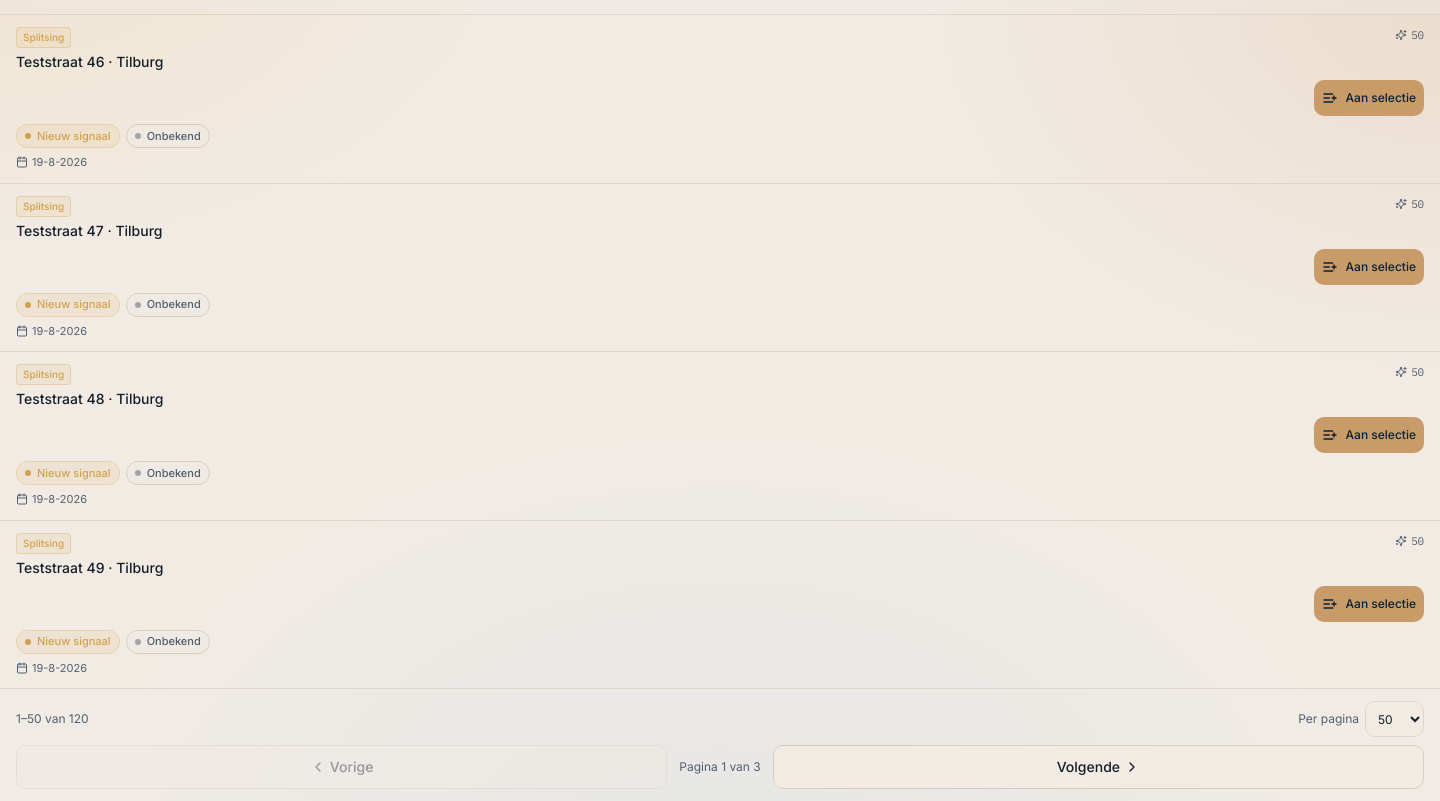
it: SignalenTable — begrensde paginering › rendert grote lijsten standaard per 50 en navigeert naar de volgende pagina
(page scrolled)
Check: the text "1–50 van 120" is shown, box left=16, top=711, right=89, bottom=727
Step 1. Click the button "Volgende" → {"x": 1098, "y": 767}, box left=773, top=745, right=1424, bottom=789
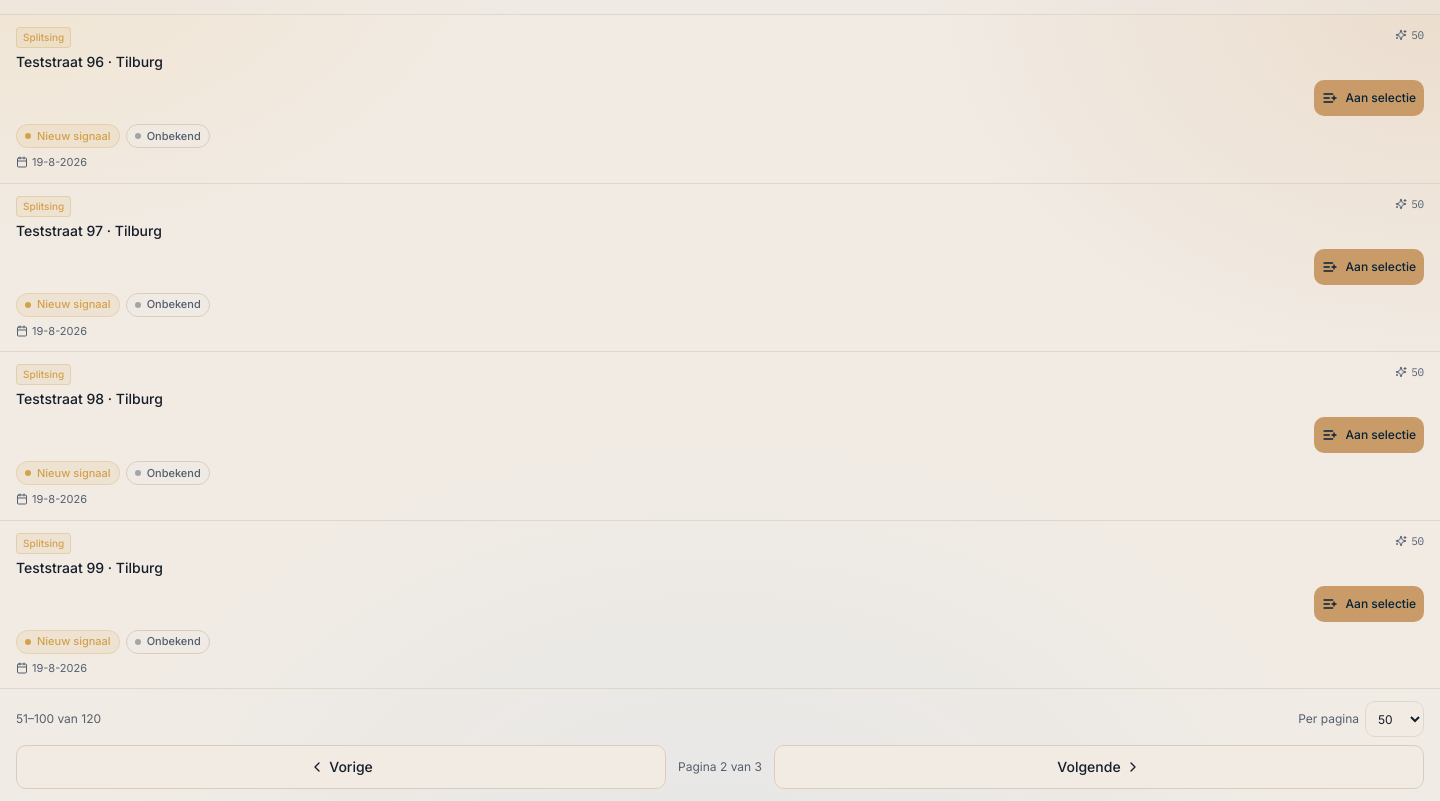
Check: the text "51–100 van 120" is shown, box left=16, top=711, right=101, bottom=727
